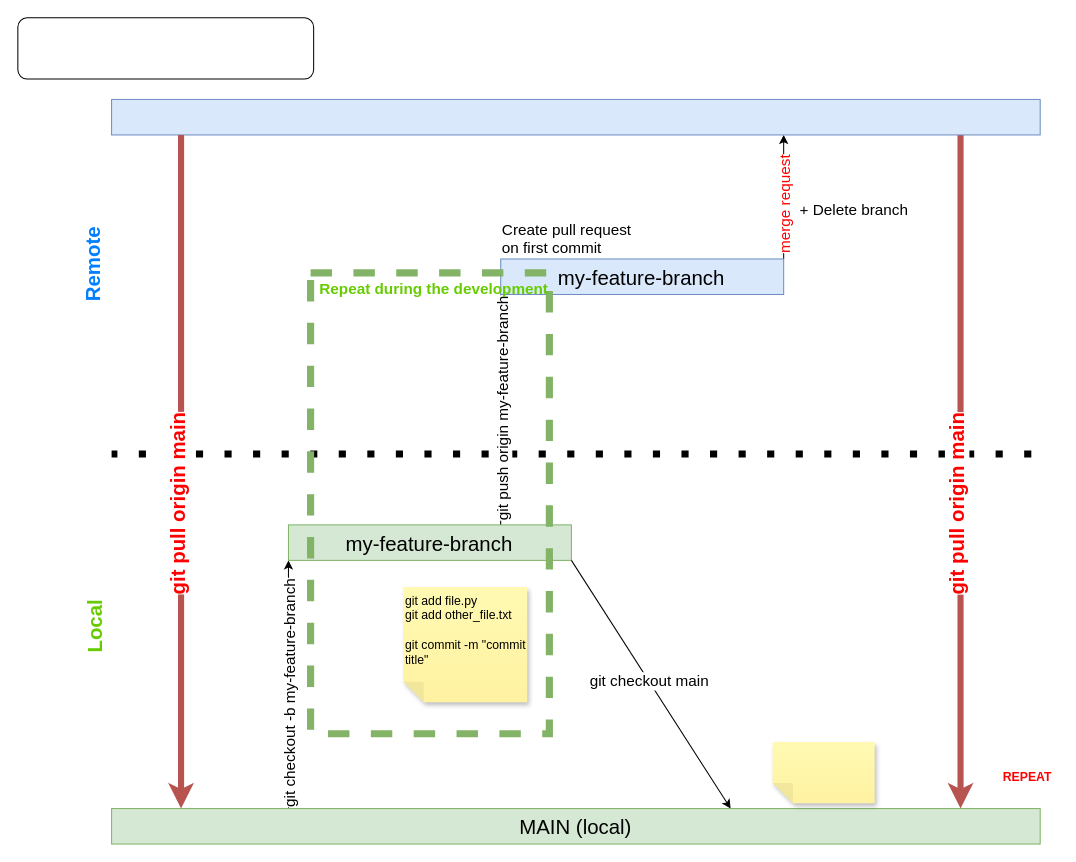
Some shapes in this 1076 by 862 pixel diagram are drawn without their labels. The shapes that lost their labels are listed below. From the top down, each one's centre as x and y in pixels, then its label:
the point at 165,48: DEVELOPMENT LIFECYCLE
the point at 575,116: MAIN (remote)
the point at 824,773: git branch -D my-feature-branch
